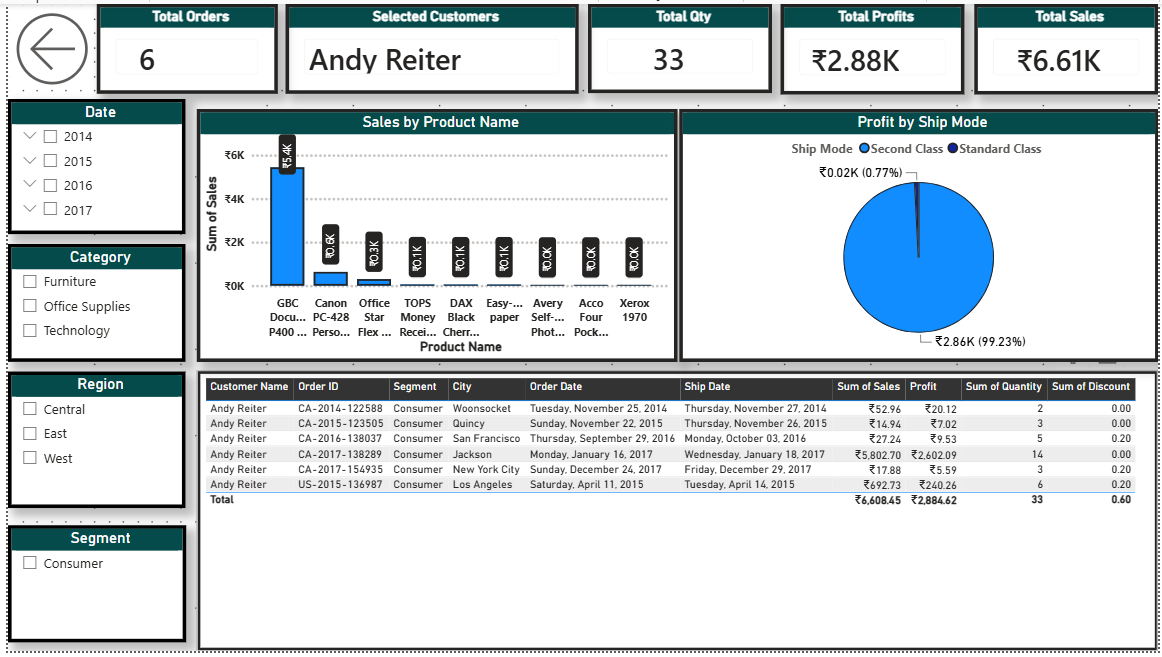

The page's visual inventory and layout, read from the dashboard file:
{"tool":"powerbi","page":{"name":"Detailed Customer Analysis","canvas":[1280,720],"ordinal":6},"visuals":[{"type":"cardVisual","title":"Total Profits","fields":{"Data":["Sum(Orders.Profit)"]},"box":[860,0,205,100.7],"z":0},{"type":"cardVisual","title":"Total Qty","fields":{"Data":["Sum(Orders.Quantity)"]},"box":[644.9,0.6,205,99.6],"z":1000},{"type":"cardVisual","title":"Selected Customers","fields":{"Data":["Min(Orders.Customer Name)"]},"box":[308.3,0,326.7,100],"z":2000},{"type":"cardVisual","title":"Total Orders","fields":{"Data":["Count(Orders.Order ID)"]},"box":[98.3,0,201.7,100],"z":3000},{"type":"cardVisual","title":"Total Sales","fields":{"Data":["Sum(Orders.Sales)"]},"box":[1075,0,205,100.7],"z":4000},{"type":"slicer","title":"Date","fields":{"Values":["Orders.Order Date.Variation.Date Hierarchy.Year","Orders.Order Date.Variation.Date Hierarchy.Quarter","Orders.Order Date.Variation.Date Hierarchy.Month","Orders.Order Date.Variation.Date Hierarchy.Day"]},"box":[0,106.4,197.9,150.5],"z":5000},{"type":"slicer","title":"Category","fields":{"Values":["Orders.Category"]},"box":[0,266.9,197.9,131.6],"z":6000},{"type":"slicer","title":"Region","fields":{"Values":["Orders.Region"]},"box":[0,408.4,197.9,151.7],"z":7000},{"type":"slicer","title":"Segment","fields":{"Values":["Orders.Segment"]},"box":[0,580,198,130],"z":8000},{"type":"tableEx","fields":{"Values":["Orders.Customer Name","Orders.Order ID","Orders.Segment","Orders.City","Orders.Order Date","Orders.Ship Date","Sum(Orders.Sales)","Sum(Orders.Profit)","Sum(Orders.Quantity)","Sum(Orders.Discount)"]},"box":[210,407.1,1070,312.9],"z":9000},{"type":"columnChart","title":"Sales by Product Name","fields":{"Category":["Orders.Product Name"],"Y":["Sum(Orders.Sales)"]},"box":[210,116.7,535,281.7],"z":10000},{"type":"pieChart","title":"Profit by Ship Mode","fields":{"Category":["Orders.Ship Mode"],"Y":["Sum(Orders.Profit)"]},"box":[746.7,116.7,533.3,281.7],"z":11000},{"type":"actionButton","box":[0,0,98.3,100],"z":12000}]}

Visuals, with their boxes in screenshot pixels (x1, y1, x2, y2), scaled from the page's 1280x720 canvas onto the 1162x657 screenshot:
"Total Profits" cardVisual: BBox(781, 0, 967, 92)
"Total Qty" cardVisual: BBox(585, 1, 772, 91)
"Selected Customers" cardVisual: BBox(280, 0, 576, 91)
"Total Orders" cardVisual: BBox(89, 0, 272, 91)
"Total Sales" cardVisual: BBox(976, 0, 1161, 92)
"Date" slicer: BBox(0, 97, 180, 234)
"Category" slicer: BBox(0, 244, 180, 364)
"Region" slicer: BBox(0, 373, 180, 511)
"Segment" slicer: BBox(0, 529, 180, 648)
tableEx - Orders.Customer Name x Orders.Order ID: BBox(191, 371, 1161, 656)
"Sales by Product Name" columnChart: BBox(191, 106, 676, 364)
"Profit by Ship Mode" pieChart: BBox(678, 106, 1161, 364)
actionButton: BBox(0, 0, 89, 91)
